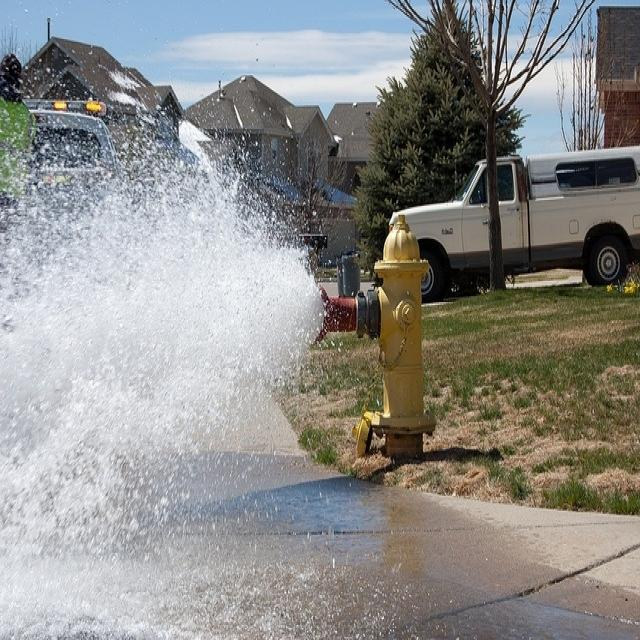fire_hydrant: (328, 199, 445, 493)
